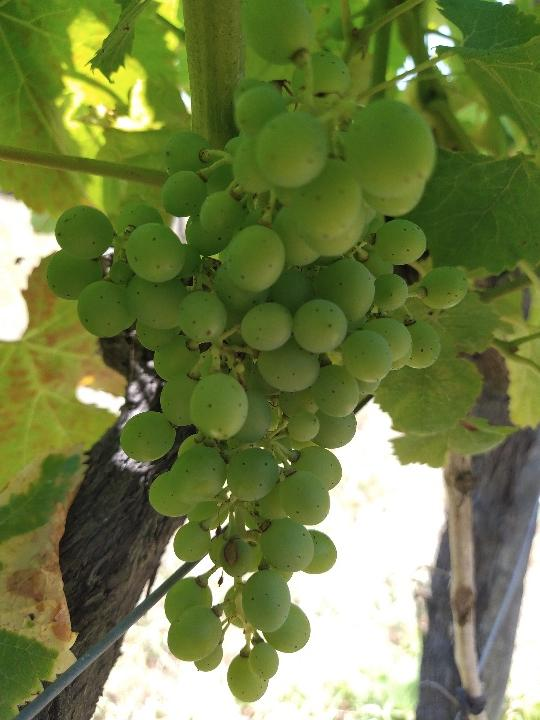grape: (44, 2, 472, 702)
